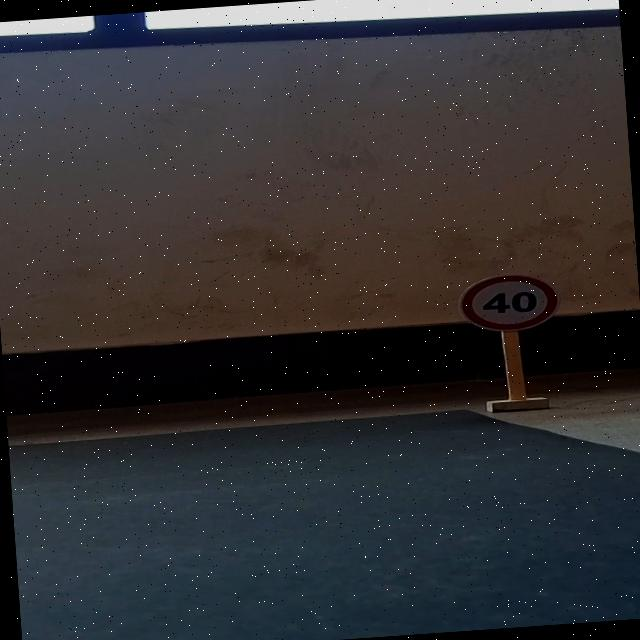Speed40: (452, 268, 564, 334)
